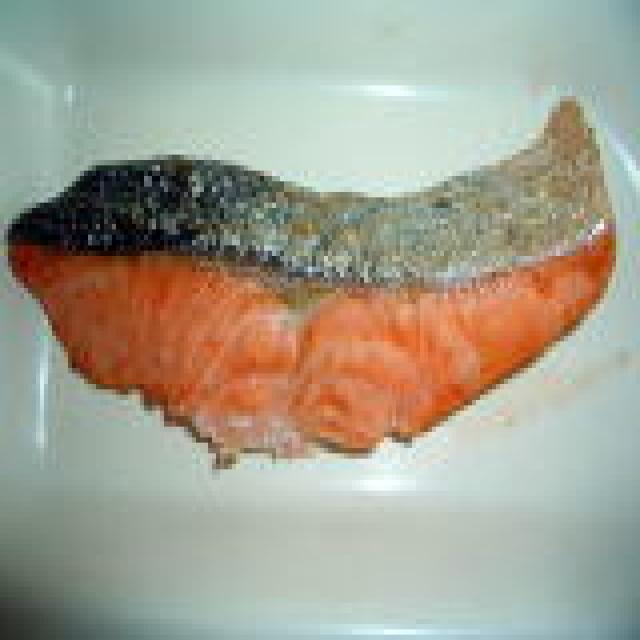熟制海鲜: (0, 53, 640, 512)
